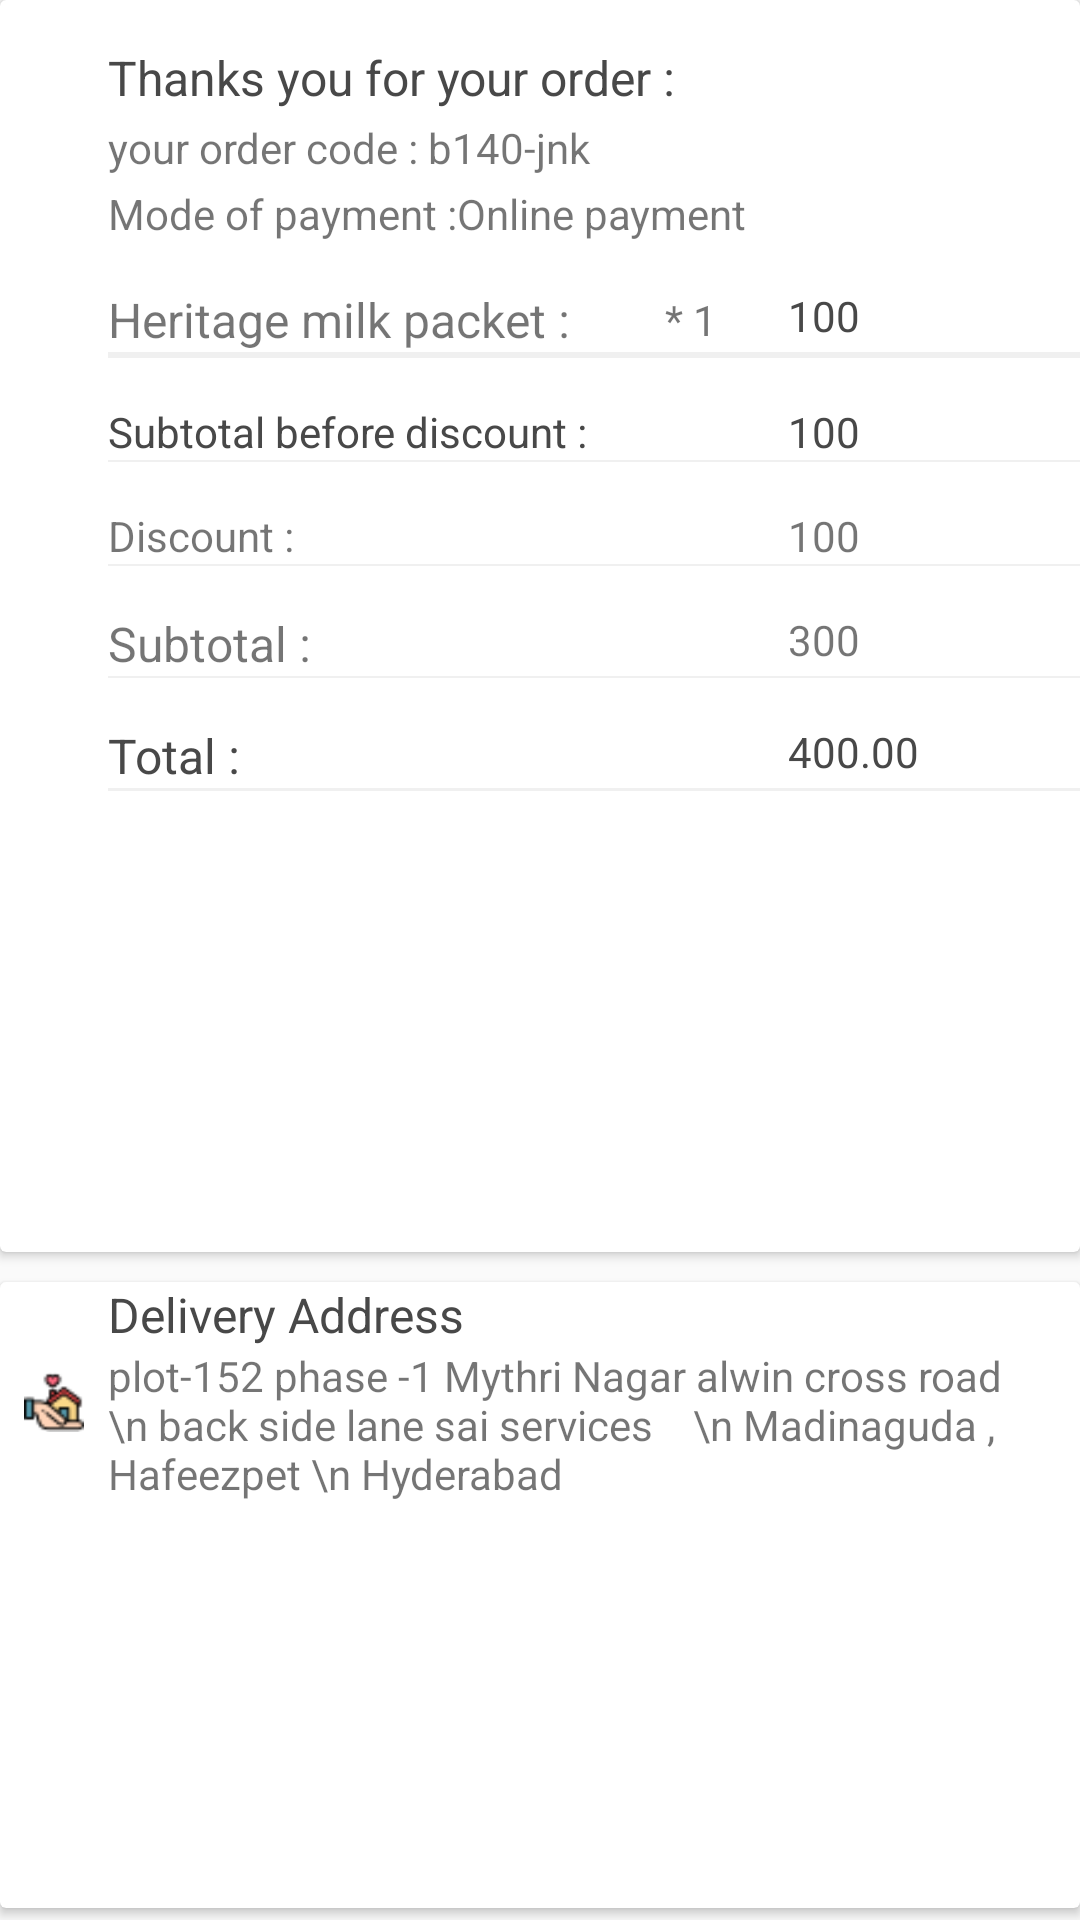

Icons on this 1080 × 1920 Android screen, each with its box as (x1, y1, x2, y2):
hand: (24, 1373, 84, 1432)
